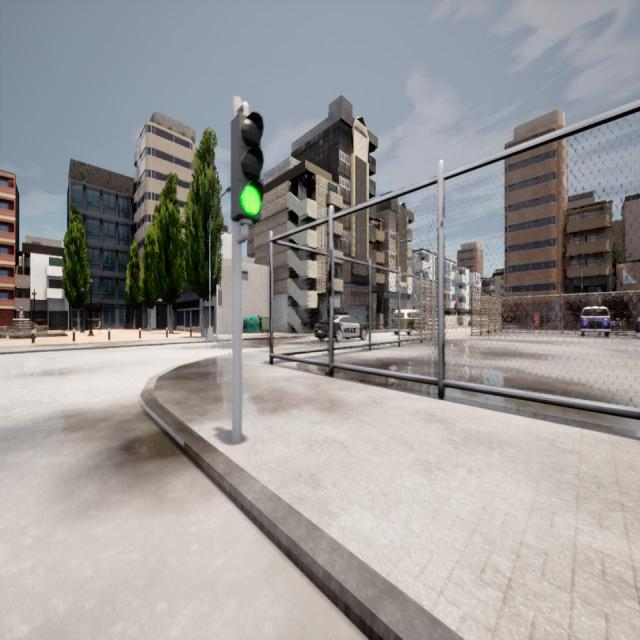Pedestrian: (453, 299, 458, 312)
Vehicle: (315, 314, 368, 340), (582, 307, 610, 337), (393, 310, 421, 334)
traffic_light: (232, 116, 262, 218), (218, 290, 222, 306)
